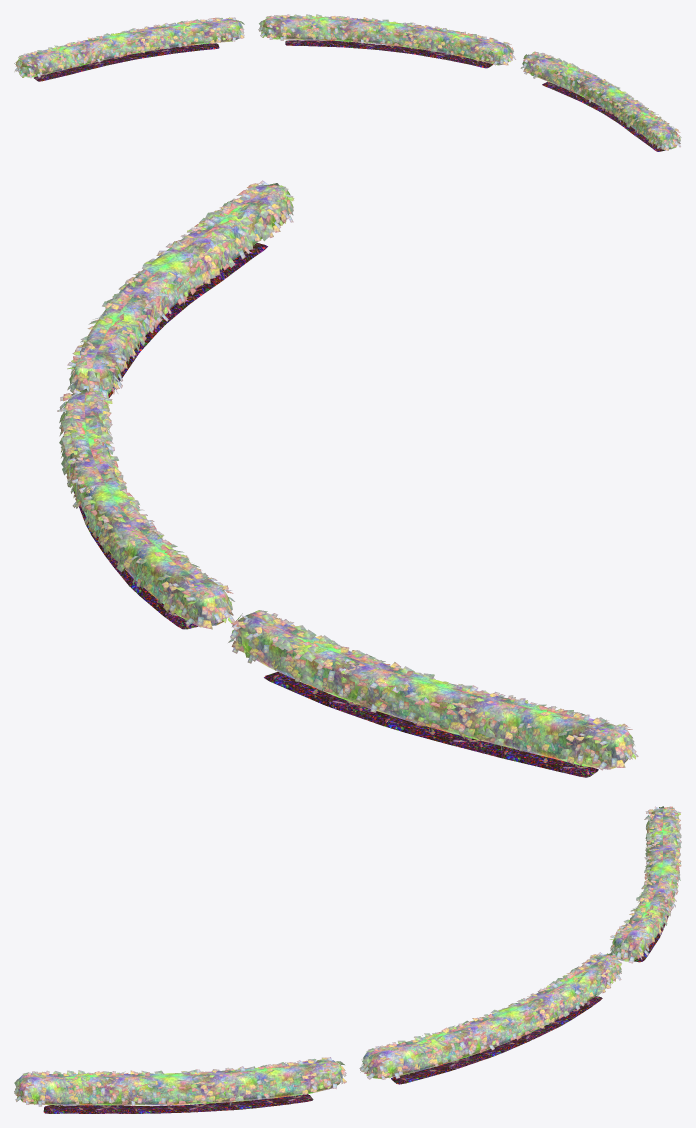
File: hedge_large_inverse_SM.fbx
3 views of the same model, one above another, from view 1: azimuth 30°, elevation 25°; view 2: azimuth 150°, elevation 25°; view 3: azimuth 270°, elevation 25° (orthographic). The views are drawn at different scales.
Parts seen in each view (by area): view 1: hedge_large_inverse_SM_LOD0; view 2: hedge_large_inverse_SM_LOD0; view 3: hedge_large_inverse_SM_LOD0.
Part boxes in pixels (<box>): hedge_large_inverse_SM_LOD0: <box>14,14,681,151</box>; hedge_large_inverse_SM_LOD0: <box>57,180,638,777</box>; hedge_large_inverse_SM_LOD0: <box>14,806,681,1113</box>.
Size of the model in its own units: 2166 by 2165 by 130.
3 materials, 3 textured.
